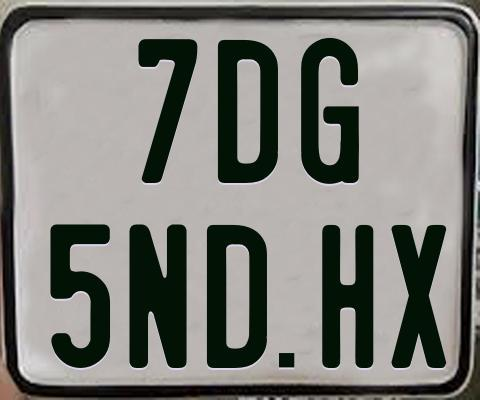5: (49, 221, 111, 365)
7: (136, 38, 201, 183)
D: (216, 37, 280, 180), (205, 223, 265, 369)
G: (299, 35, 358, 186)
H: (322, 222, 379, 366)
N: (126, 224, 190, 369)
X: (390, 224, 450, 369)
